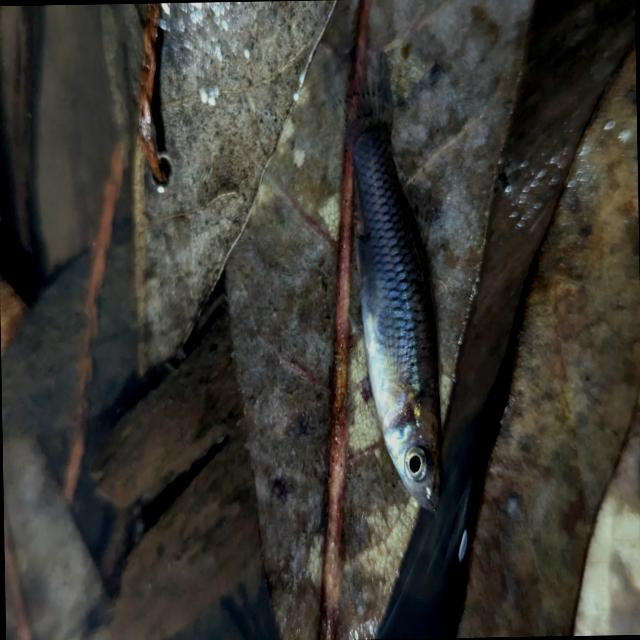Sivrisinek Baligi: (341, 40, 446, 514)
